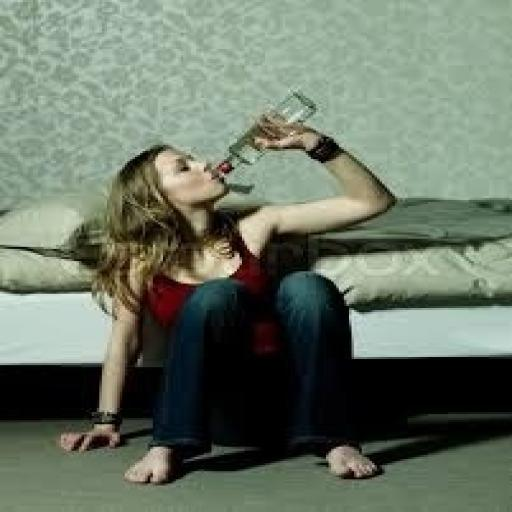drinking: (48, 88, 316, 243)
